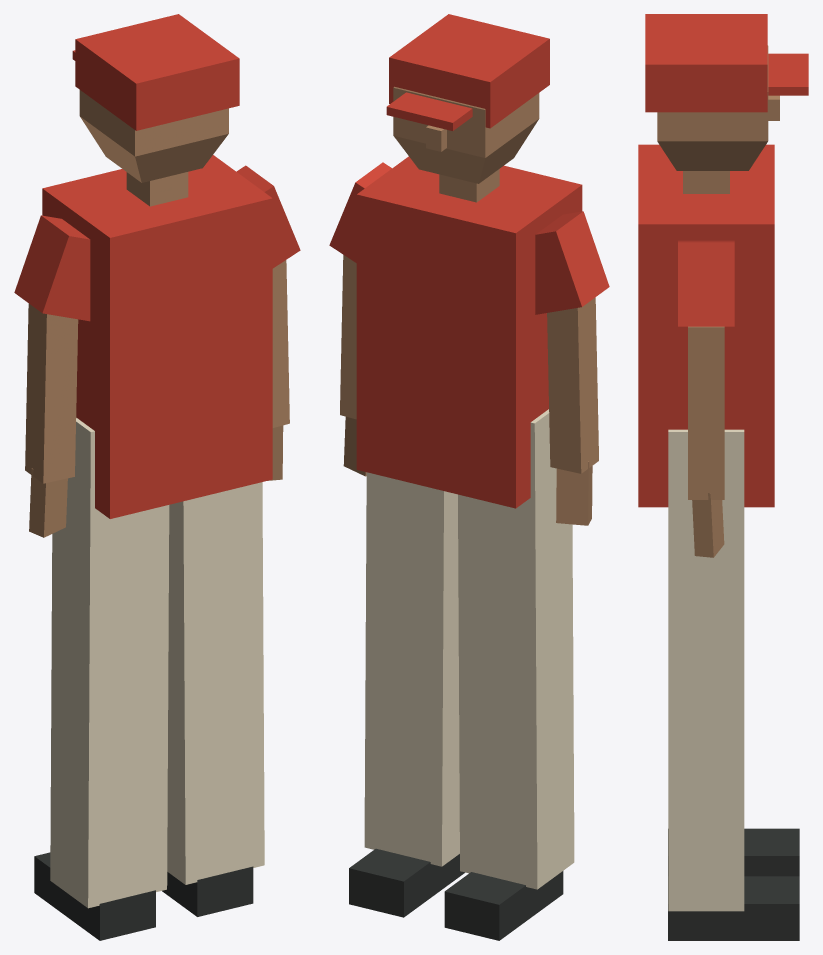
The model's file is pedestrian_05.glb.
3 views of the same model, side by side, from view 1: azimuth 30°, elevation 25°; view 2: azimuth 150°, elevation 25°; view 3: azimuth 270°, elevation 25° (orthographic). The views are drawn at different scales.
Parts seen in each view (by area): view 1: pedestrian_05 crowd_trousers, pedestrian_05 crowd_shirt, pedestrian_05 crowd_skin, pedestrian_05 crowd_accessory, pedestrian_05 crowd_rubber; view 2: pedestrian_05 crowd_trousers, pedestrian_05 crowd_shirt, pedestrian_05 crowd_skin, pedestrian_05 crowd_accessory, pedestrian_05 crowd_rubber; view 3: pedestrian_05 crowd_shirt, pedestrian_05 crowd_trousers, pedestrian_05 crowd_skin, pedestrian_05 crowd_accessory, pedestrian_05 crowd_rubber.
Boxes of the visible parts, x1=… form: pedestrian_05 crowd_trousers: x1=50, y1=418, x2=264, y2=908; pedestrian_05 crowd_shirt: x1=14, y1=155, x2=300, y2=518; pedestrian_05 crowd_skin: x1=25, y1=90, x2=289, y2=537; pedestrian_05 crowd_accessory: x1=72, y1=14, x2=239, y2=130; pedestrian_05 crowd_rubber: x1=34, y1=852, x2=253, y2=940; pedestrian_05 crowd_trousers: x1=364, y1=409, x2=574, y2=889; pedestrian_05 crowd_shirt: x1=329, y1=156, x2=609, y2=508; pedestrian_05 crowd_skin: x1=340, y1=86, x2=598, y2=525; pedestrian_05 crowd_accessory: x1=386, y1=14, x2=549, y2=130; pedestrian_05 crowd_rubber: x1=349, y1=848, x2=563, y2=940; pedestrian_05 crowd_shirt: x1=638, y1=144, x2=774, y2=507; pedestrian_05 crowd_trousers: x1=668, y1=429, x2=744, y2=911; pedestrian_05 crowd_skin: x1=657, y1=45, x2=779, y2=557; pedestrian_05 crowd_accessory: x1=645, y1=14, x2=808, y2=112; pedestrian_05 crowd_rubber: x1=668, y1=828, x2=799, y2=940.
Size of the model in its own units: 0.5717 by 1.82 by 0.325.
